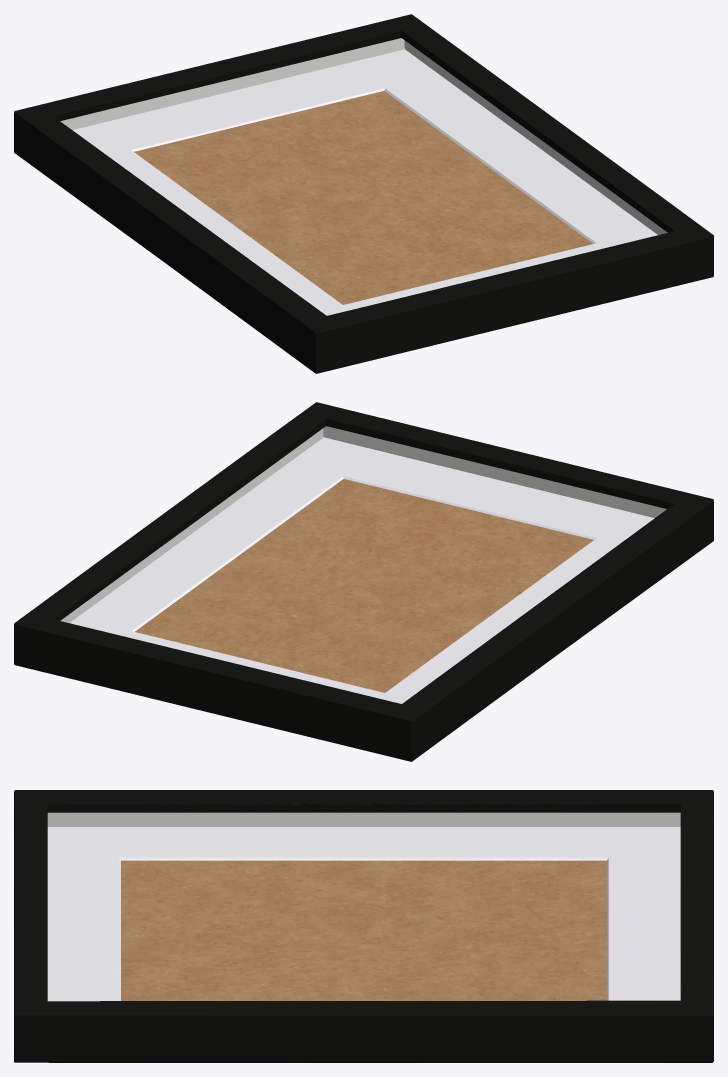
Rendered from medium-black.glb.
The picture shows the model from 3 angles, top to bottom: view 1: azimuth 30°, elevation 25°; view 2: azimuth 150°, elevation 25°; view 3: azimuth 270°, elevation 25°; orthographic projection. The views are drawn at different scales.
Parts seen in each view (by area): view 1: ASY_ART_20548918_S01_NV01; view 2: ASY_ART_20548918_S01_NV01; view 3: ASY_ART_20548918_S01_NV01.
Boxes of the visible parts, left/top/right/bottom form: ASY_ART_20548918_S01_NV01: left=14, top=14, right=713, bottom=373; ASY_ART_20548918_S01_NV01: left=14, top=402, right=713, bottom=761; ASY_ART_20548918_S01_NV01: left=14, top=790, right=713, bottom=1062.
Size of the model in its own units: 0.3179 by 0.0321 by 0.418.
2 materials, 1 textured.
